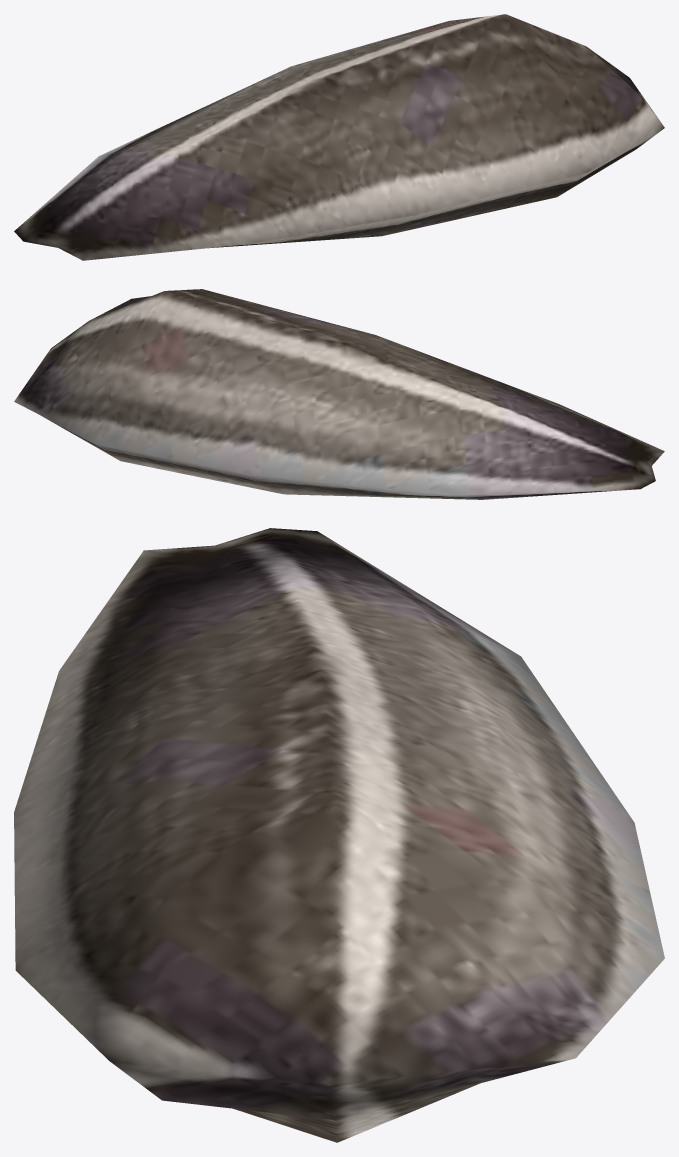
The model's file is seed_2.dae.
The picture shows the model from 3 angles, top to bottom: view 1: azimuth 30°, elevation 25°; view 2: azimuth 150°, elevation 25°; view 3: azimuth 270°, elevation 25°; orthographic projection. The views are drawn at different scales.
Parts seen in each view (by area): view 1: Plane; view 2: Plane; view 3: Plane.
Part boxes in pixels (bbox=[...]): Plane: bbox=[14, 14, 664, 260]; Plane: bbox=[14, 289, 664, 499]; Plane: bbox=[14, 528, 664, 1142].
Bounding box in the file's own units: 0.2479 × 0.0699 × 0.1227.
Materials: 1 (1 with a texture image).
